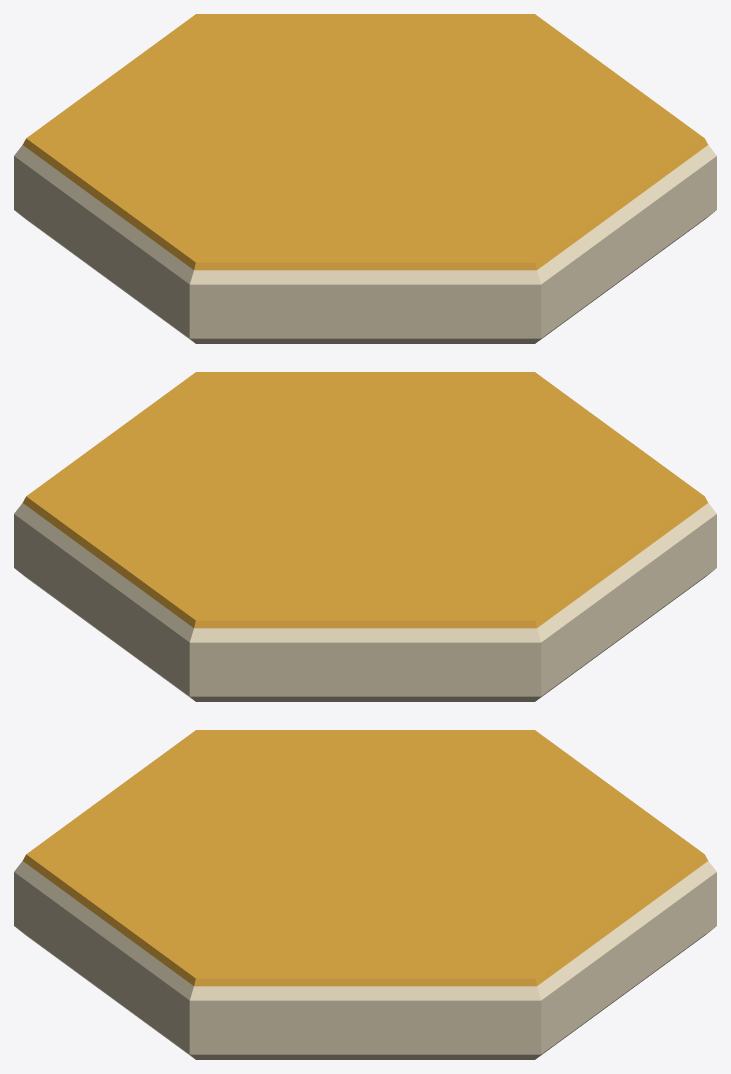
The model's file is foundation-field.glb.
3 views of the same model, one above another, from view 1: azimuth 30°, elevation 25°; view 2: azimuth 150°, elevation 25°; view 3: azimuth 270°, elevation 25° (orthographic).
Visible parts, largest first — view 1: foundation-field.003, foundation-field.001, foundation-field.002, foundation-field; view 2: foundation-field.003, foundation-field.001, foundation-field.002, foundation-field; view 3: foundation-field.003, foundation-field.001, foundation-field.002, foundation-field.
Boxes of the visible parts, box(x1,y1,x2,y2) form: foundation-field.003: box(22, 14, 708, 270); foundation-field.001: box(14, 156, 716, 338); foundation-field.002: box(14, 145, 716, 284); foundation-field: box(16, 211, 714, 343); foundation-field.003: box(22, 372, 708, 628); foundation-field.001: box(14, 514, 716, 696); foundation-field.002: box(14, 503, 716, 642); foundation-field: box(16, 569, 714, 701); foundation-field.003: box(22, 730, 708, 986); foundation-field.001: box(14, 872, 716, 1054); foundation-field.002: box(14, 861, 716, 1000); foundation-field: box(16, 927, 714, 1059).
Bounding box in the file's own units: 1.7 × 0.25 × 1.96.
